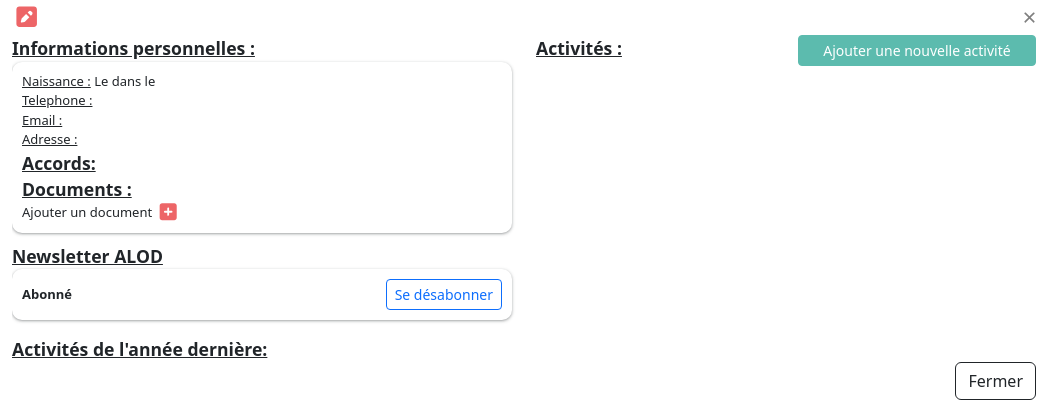
Test: Adherent modal newsletter › shows Brevo state and unsubscribes using the saved email
The width and height of the screenshot is (1048, 417).
Check: the element showing "Newsletter ALOD Abonné Se désabonner" is shown, box [12, 242, 512, 320]
Click the button "Se désabonner" at (444, 294), box [386, 279, 502, 310]
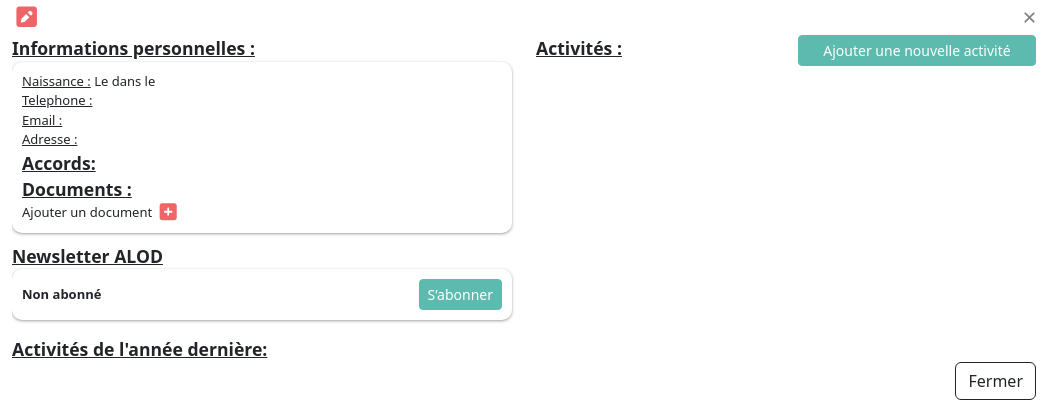
Check: the element showing "Newsletter ALOD Non abonné S’abonner" is shown, box [12, 242, 512, 320]
